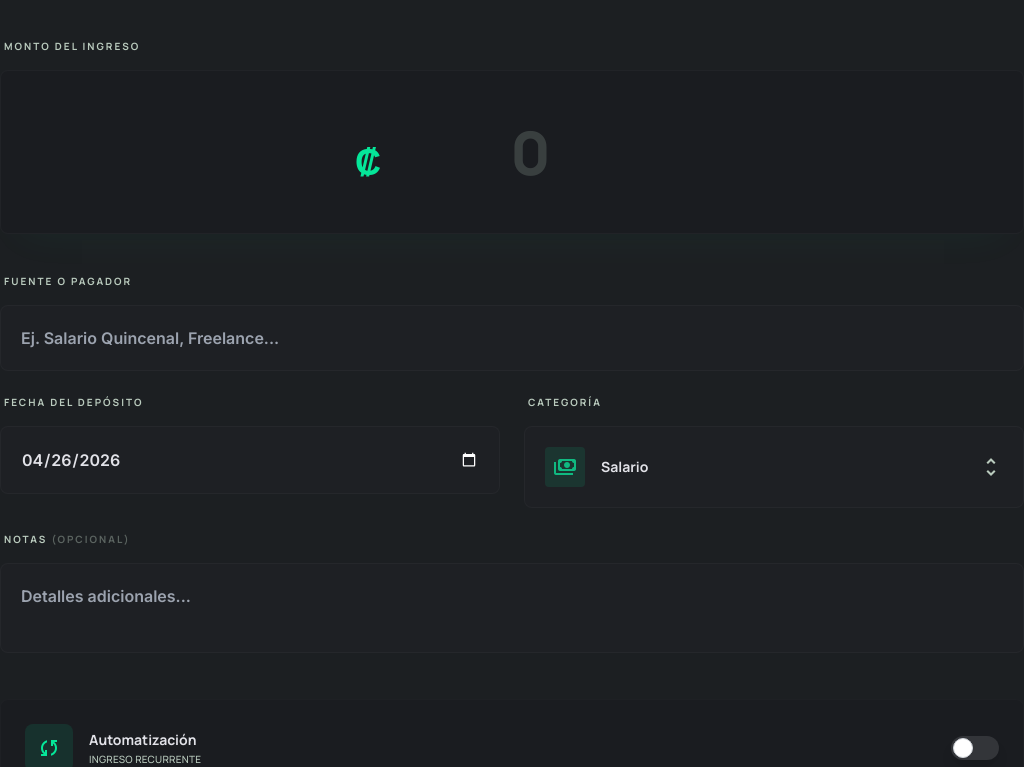
IncomeRegistrationForm.vue › keeps frequency when toggling recurrence off and on
Click the checkbox with test id "income-recurring-toggle". click: coordinates (975, 748)
box: x1=951 y1=736 x2=999 y2=760
(page scrolled)
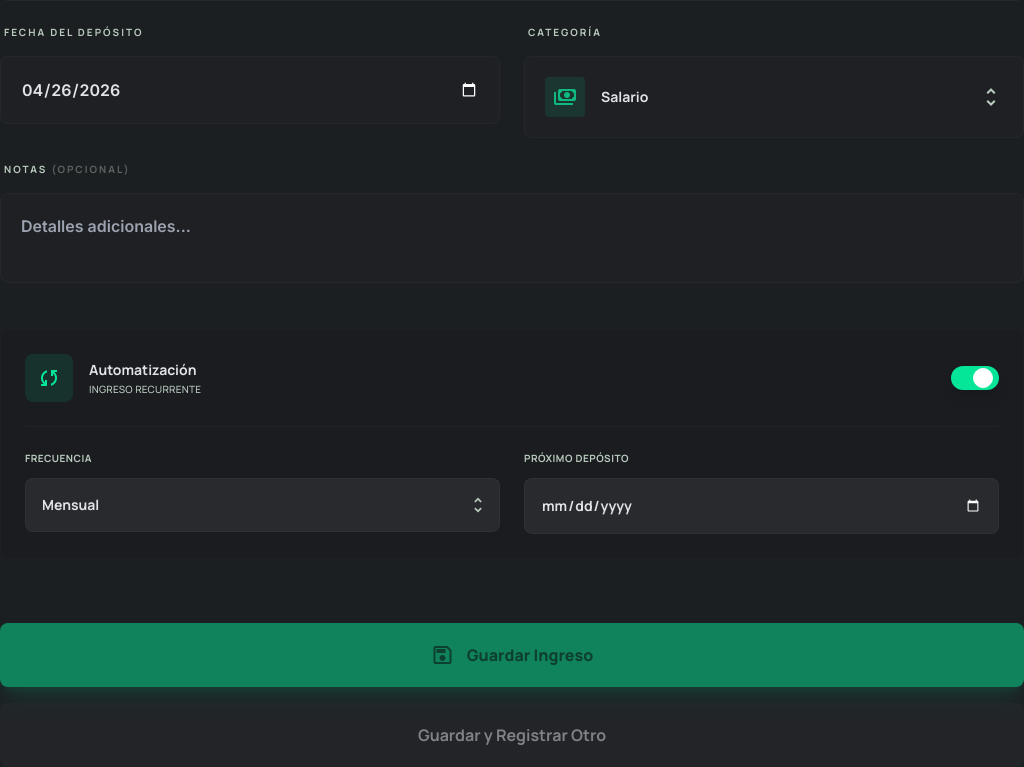
Select "Semanal" in the dropdown with test id "income-frequency-select". click: coordinates (262, 505)
box: x1=25 y1=478 x2=500 y2=532
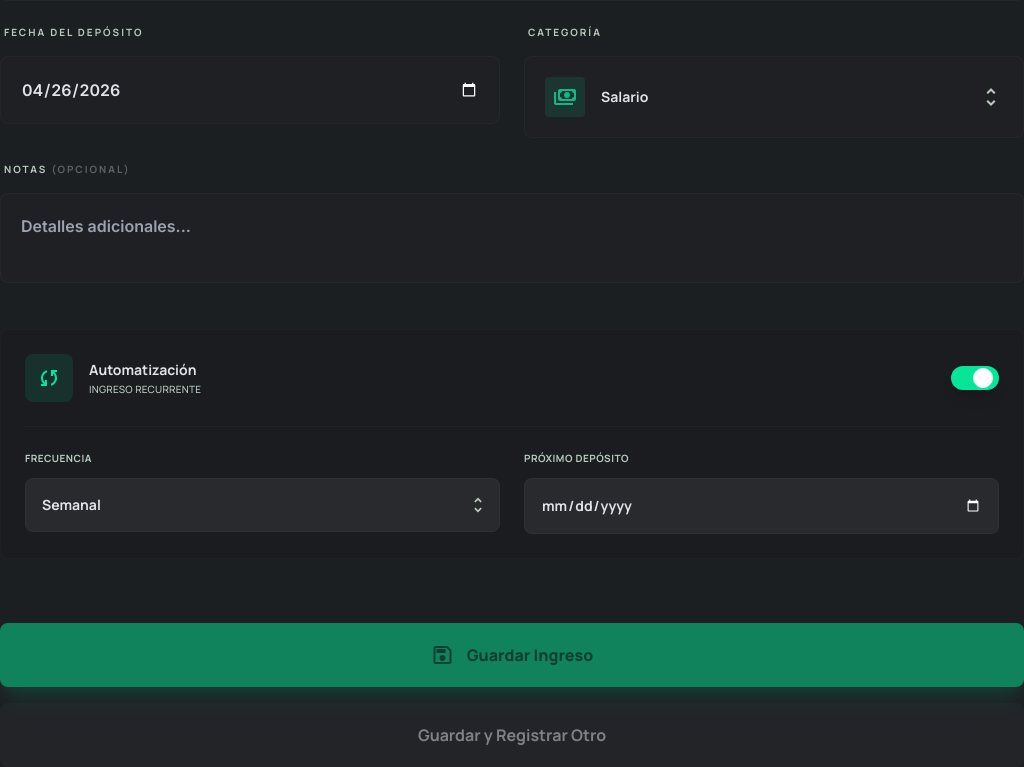
Click the checkbox with test id "income-recurring-toggle". click: coordinates (975, 378)
box: x1=951 y1=366 x2=999 y2=390
(page scrolled)
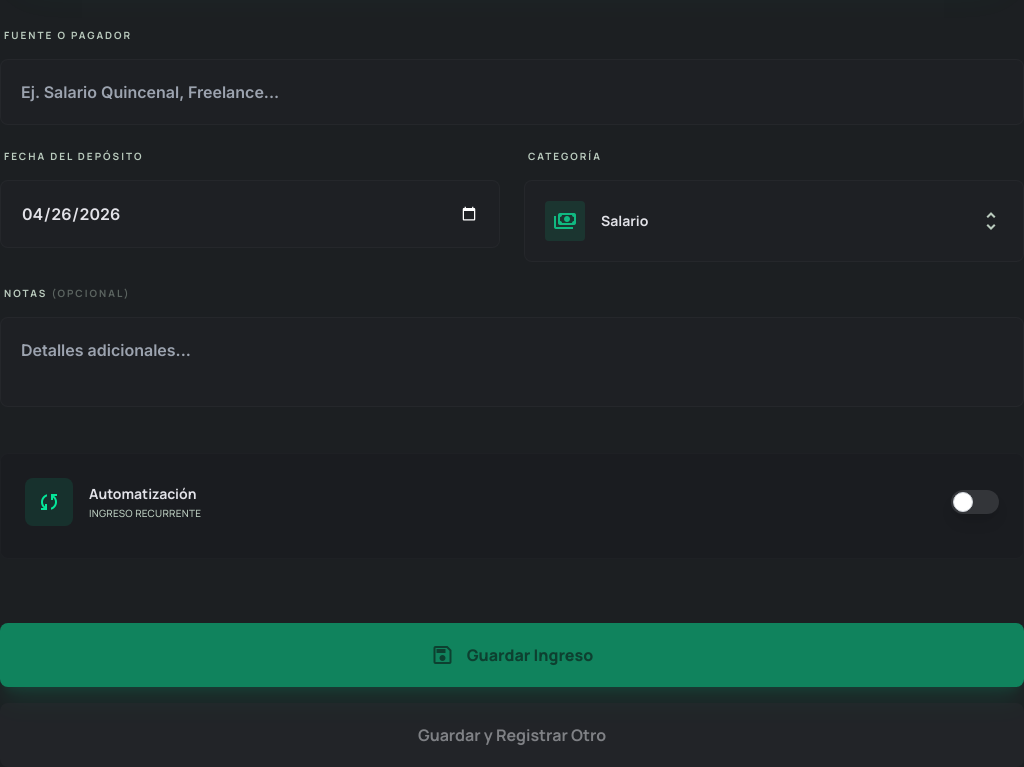
Click the checkbox with test id "income-recurring-toggle". click: coordinates (975, 502)
box: x1=951 y1=490 x2=999 y2=514
(page scrolled)
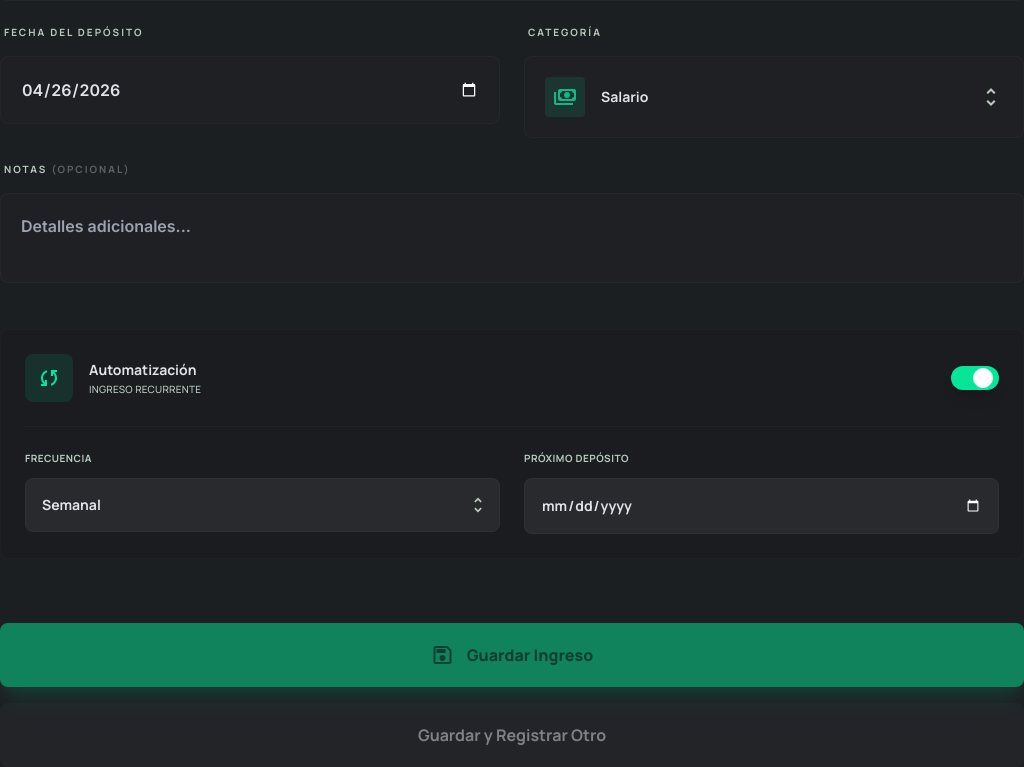
Now the dropdown with test id "income-frequency-select" shows "Semanal", box x1=25 y1=478 x2=500 y2=532
